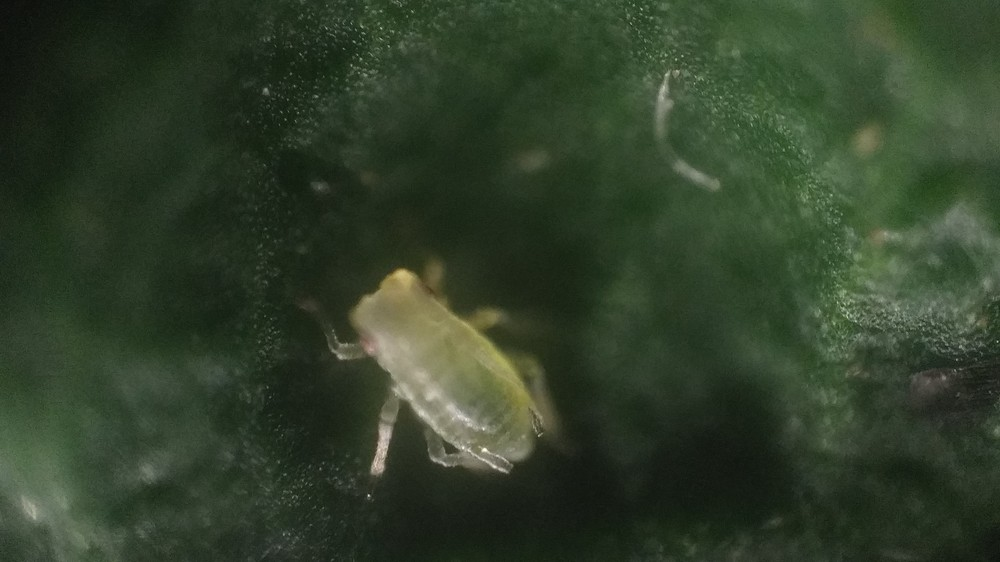Pulgon: (291, 231, 618, 511)
